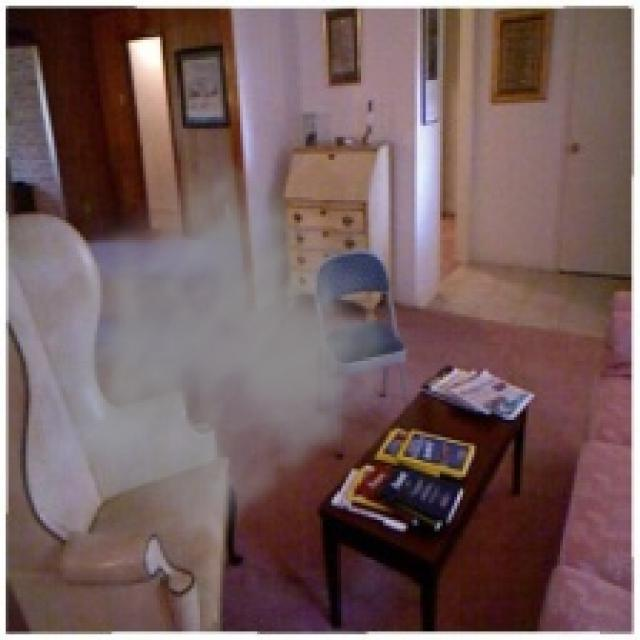Smoke: (46, 146, 428, 554)
